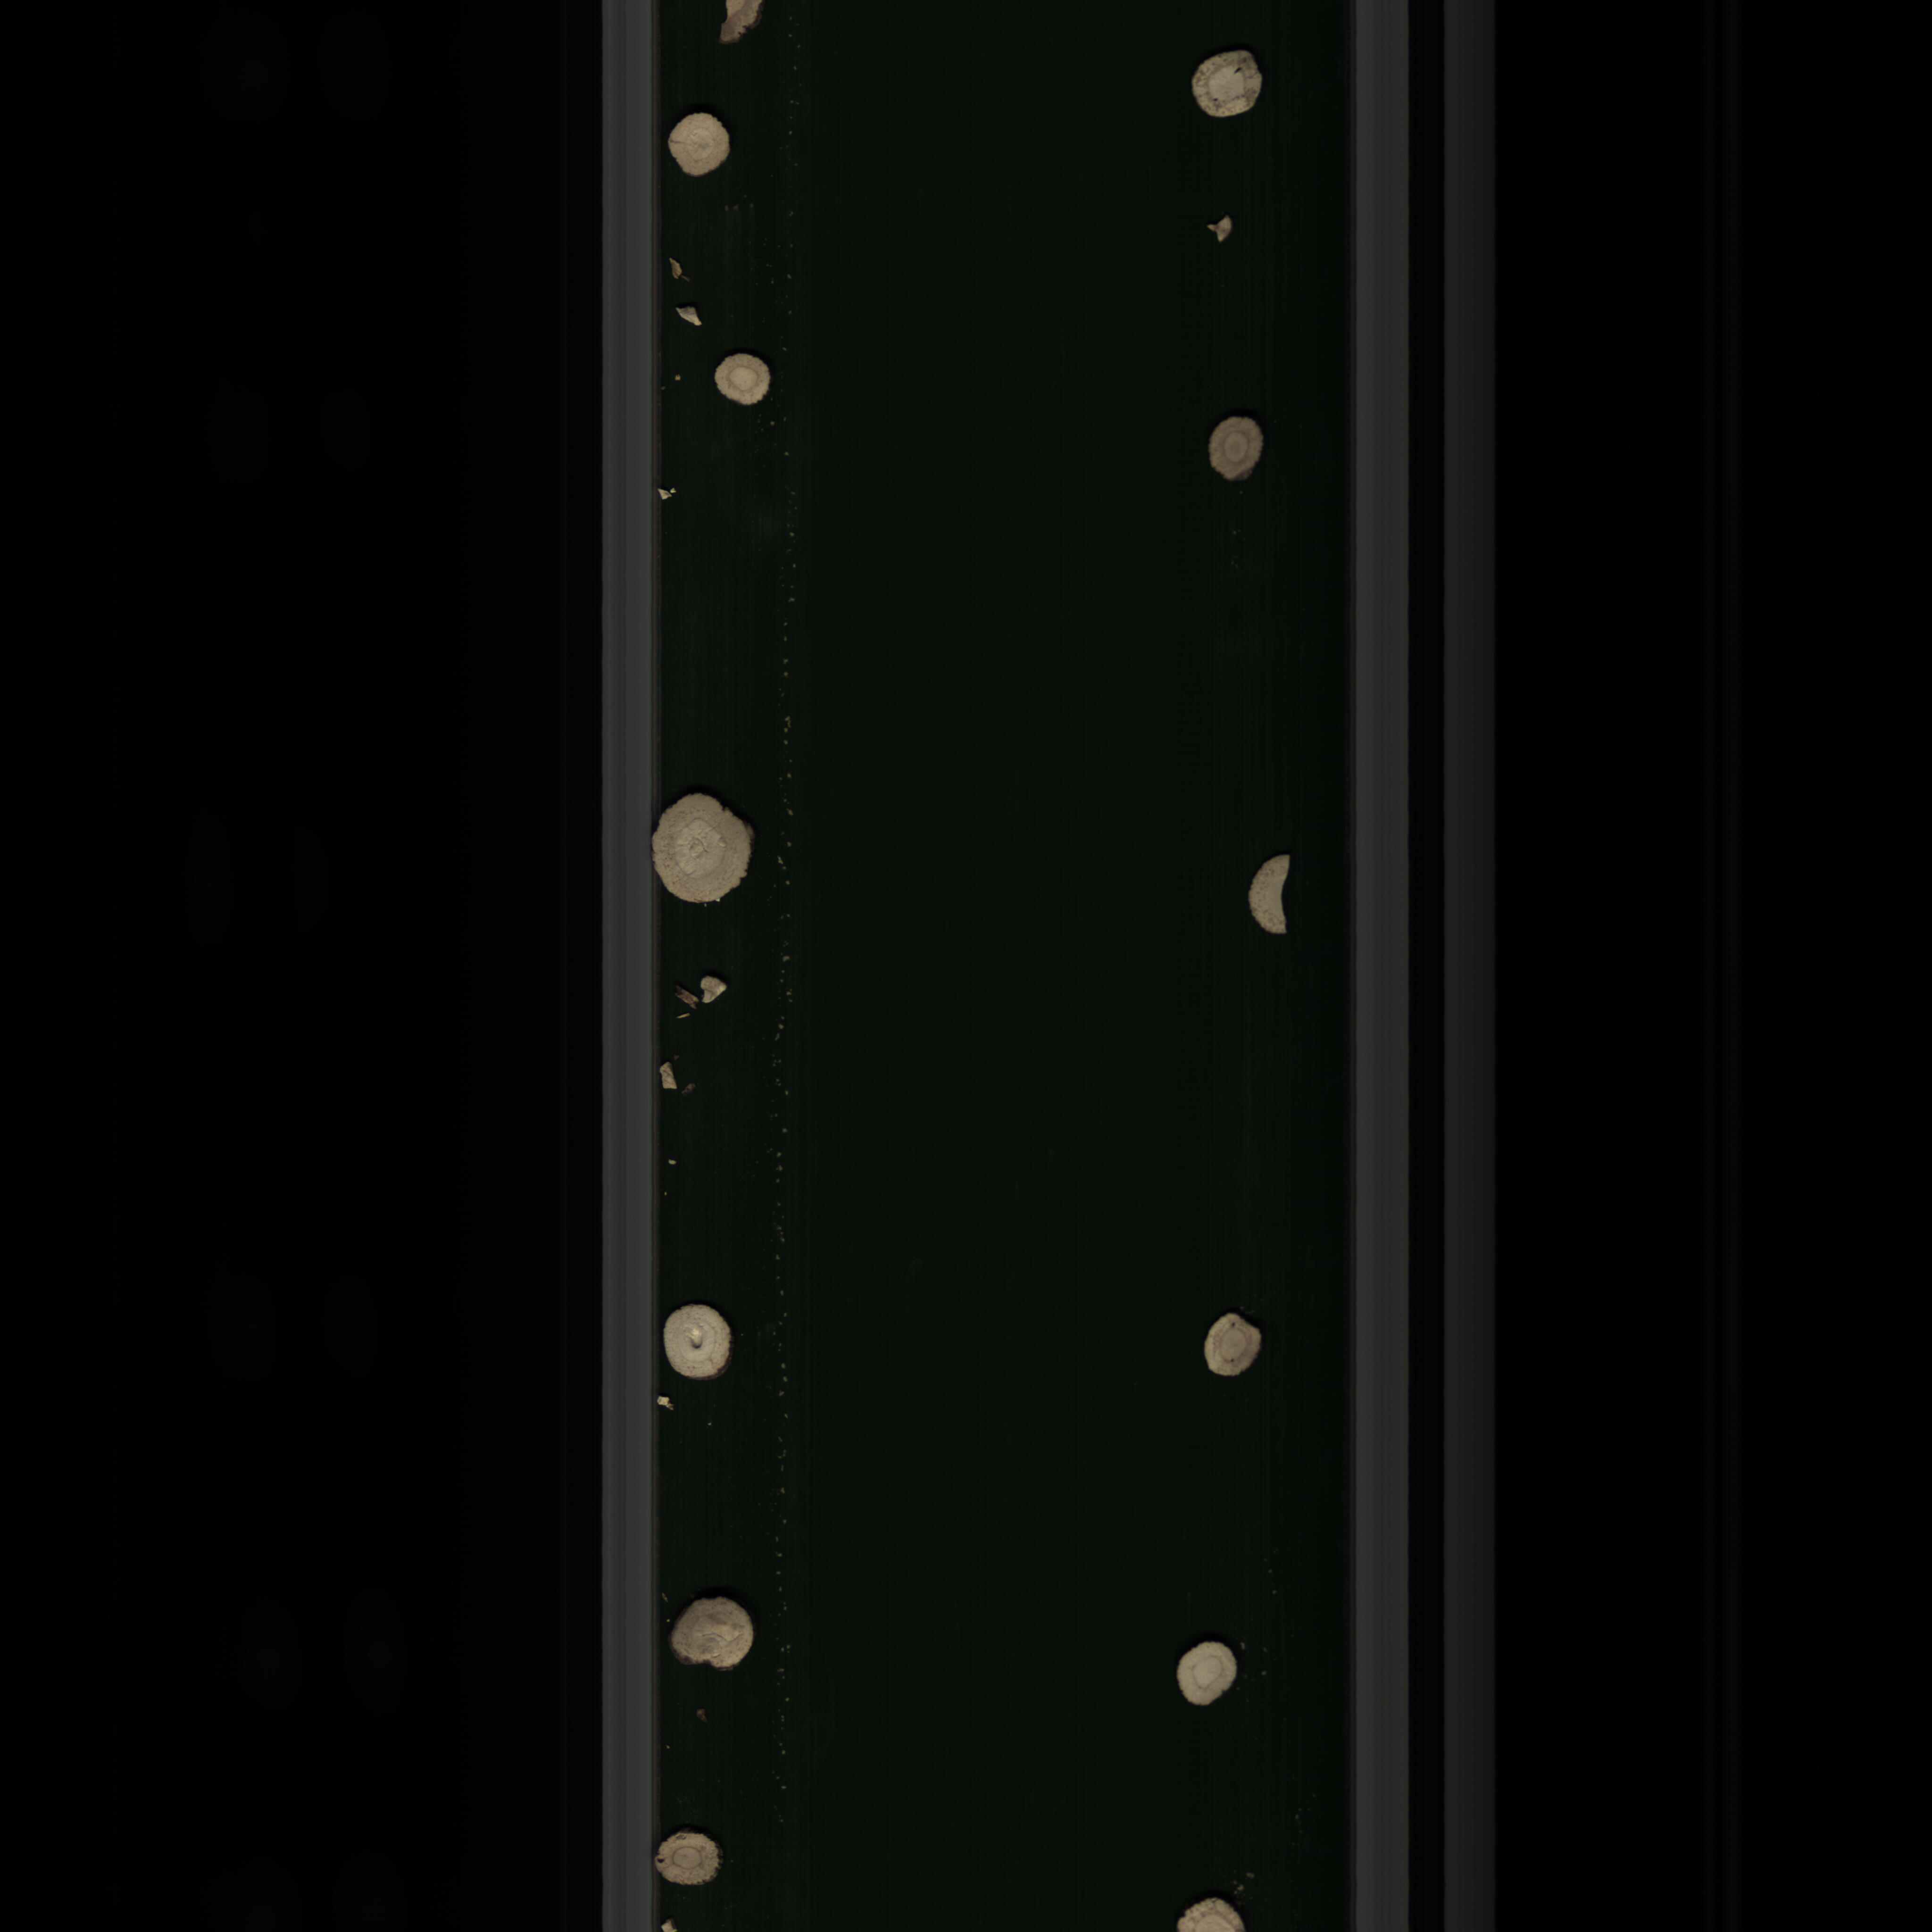debris: (1238, 844, 1304, 959)
hole: (1182, 42, 1284, 131)
